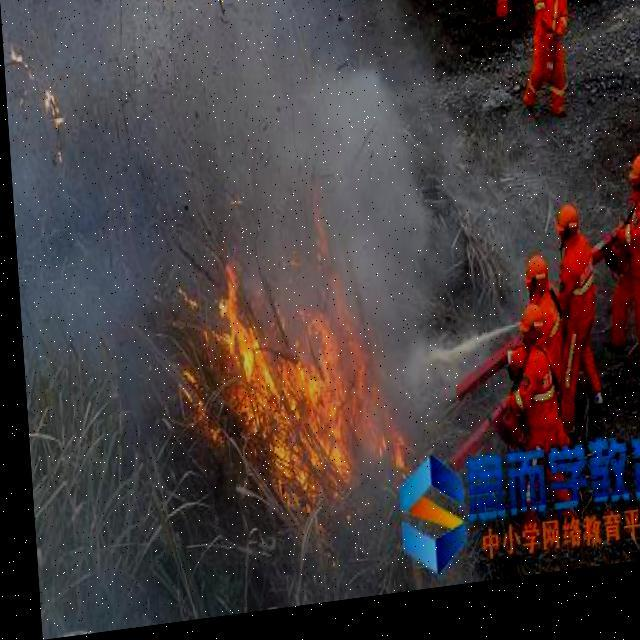Fire: (176, 210, 405, 544)
